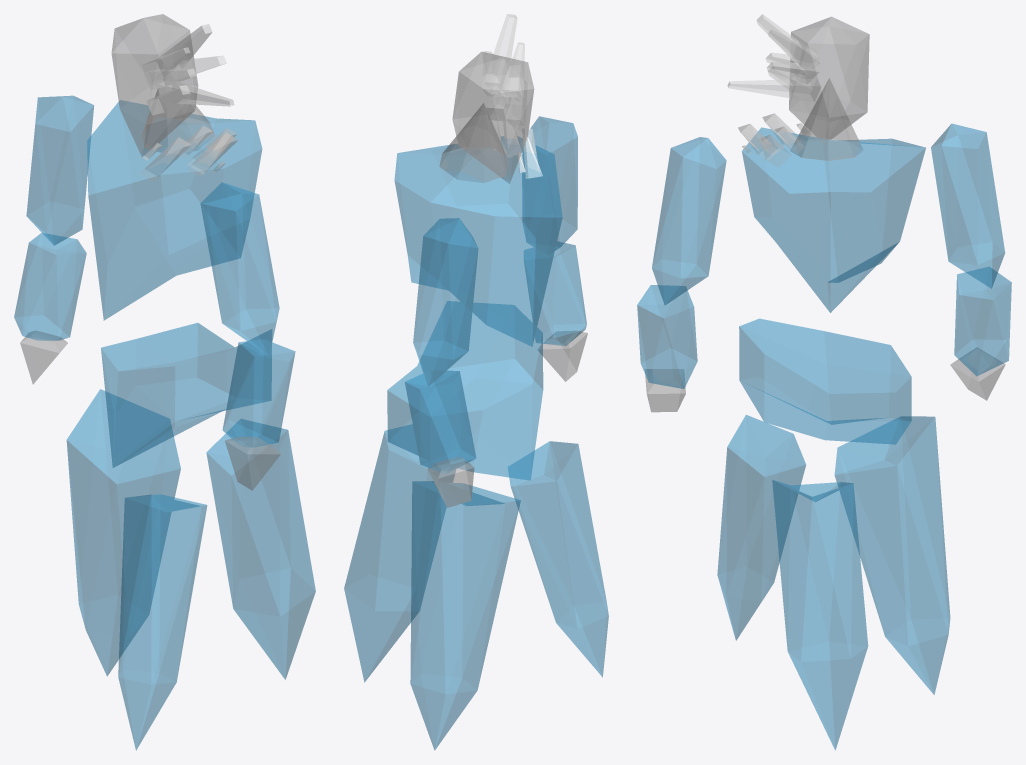
File: ghostIdle20.obj
3 renders of one model, left to right at view 1: azimuth 30°, elevation 25°; view 2: azimuth 150°, elevation 25°; view 3: azimuth 270°, elevation 25°, orthographic. The views are drawn at different scales.
Parts seen in each view (by area): view 1: Cube.001_Cube.001, Icosphere.005, Icosphere.004, Cube_Cube.002, Icosphere.003, Icosphere.005_Icosphere.001, Icosphere.003_Icosphere.001, Icosphere.007_Icosphere.001, Icosphere.008_Icosphere.001, Icosphere.006_Icosphere.001, Cone_Cone.002, Cube.002_Cube.001 (+10 smaller); view 2: Cube.001_Cube.001, Cube_Cube.002, Icosphere.005, Icosphere.004, Icosphere.003, Icosphere.007_Icosphere.001, Icosphere.003_Icosphere.001, Icosphere.005_Icosphere.001, Icosphere.008_Icosphere.001, Icosphere.006_Icosphere.001, Cone_Cone.002, Cube.003_Cube.001 (+5 smaller); view 3: Cube.001_Cube.001, Icosphere.005, Icosphere.004, Cube_Cube.002, Icosphere.003, Icosphere.005_Icosphere.001, Icosphere.007_Icosphere.001, Icosphere.003_Icosphere.001, Icosphere.006_Icosphere.001, Icosphere.008_Icosphere.001, Cone_Cone.002, Cube.003_Cube.001 (+4 smaller).
Part boxes in pixels (x1,y1,x2,y2): Cube.001_Cube.001: (87,100,262,320); Icosphere.005: (66,389,180,676); Icosphere.004: (206,419,315,679); Cube_Cube.002: (101,323,271,467); Icosphere.003: (118,494,207,750); Icosphere.005_Icosphere.001: (200,182,279,356); Icosphere.003_Icosphere.001: (111,14,198,157); Icosphere.007_Icosphere.001: (26,95,93,245); Icosphere.008_Icosphere.001: (14,233,86,340); Icosphere.006_Icosphere.001: (222,339,295,447); Cone_Cone.002: (142,89,214,152); Cube.002_Cube.001: (225,437,280,490); Cube.001_Cube.001: (394,136,562,346); Cube_Cube.002: (387,301,543,480); Icosphere.005: (410,481,520,750); Icosphere.004: (344,424,455,682); Icosphere.003: (508,441,608,677); Icosphere.007_Icosphere.001: (413,218,478,386); Icosphere.003_Icosphere.001: (452,52,534,183); Icosphere.005_Icosphere.001: (522,116,577,254); Icosphere.008_Icosphere.001: (405,370,476,474); Icosphere.006_Icosphere.001: (524,241,586,345); Cone_Cone.002: (439,103,506,182); Cube.003_Cube.001: (428,457,474,507); Cube.001_Cube.001: (742,127,925,312); Icosphere.005: (834,416,950,694); Icosphere.004: (772,480,868,750); Cube_Cube.002: (739,318,911,444); Icosphere.003: (717,415,805,640); Icosphere.005_Icosphere.001: (652,137,726,305); Icosphere.007_Icosphere.001: (931,123,1005,288); Icosphere.003_Icosphere.001: (789,16,869,139); Icosphere.006_Icosphere.001: (637,285,697,388); Icosphere.008_Icosphere.001: (954,267,1011,375); Cone_Cone.002: (790,78,863,160); Cube.003_Cube.001: (950,347,1005,400).
Bounding box in the file's own units: 16.53 × 49.77 × 24.73.
